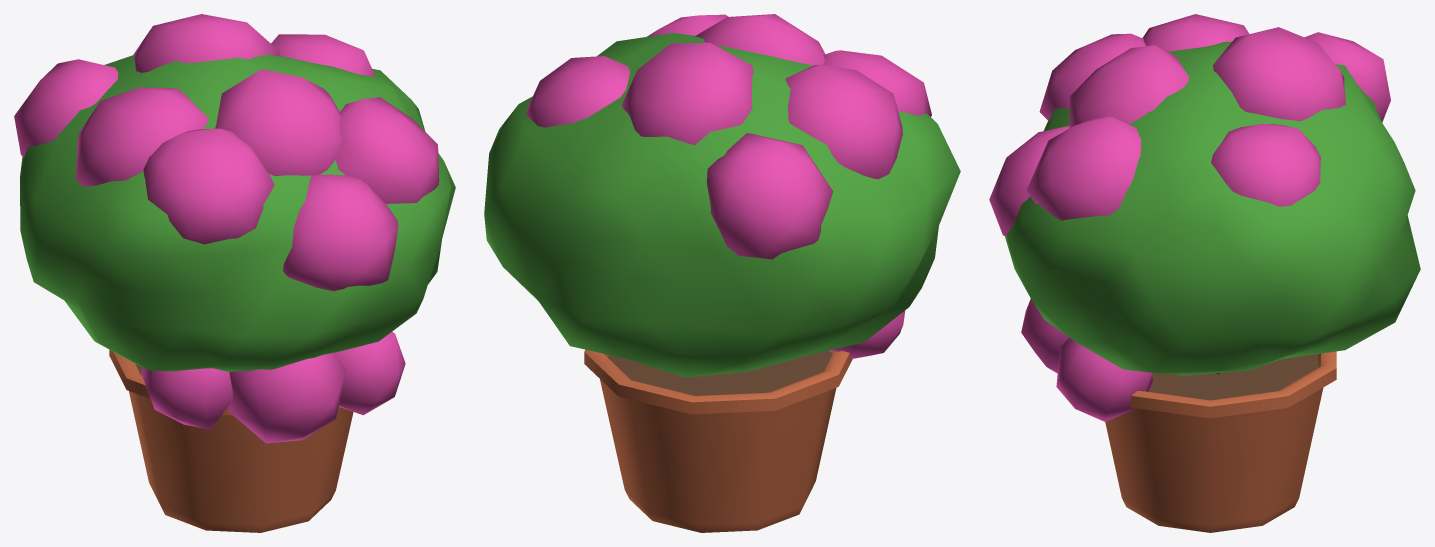
The model's file is prop_bougainvillea.glb.
3 renders of one model, left to right at view 1: azimuth 30°, elevation 25°; view 2: azimuth 150°, elevation 25°; view 3: azimuth 270°, elevation 25°, orthographic. The views are drawn at different scales.
Parts seen in each view (by area): view 1: prop_bougainvillea; view 2: prop_bougainvillea; view 3: prop_bougainvillea.
Part boxes in pixels (<box>): prop_bougainvillea: <box>14,14,455,532</box>; prop_bougainvillea: <box>484,14,960,532</box>; prop_bougainvillea: <box>989,14,1420,532</box>.
Size of the model in its own units: 1.29 by 1.42 by 1.22.
